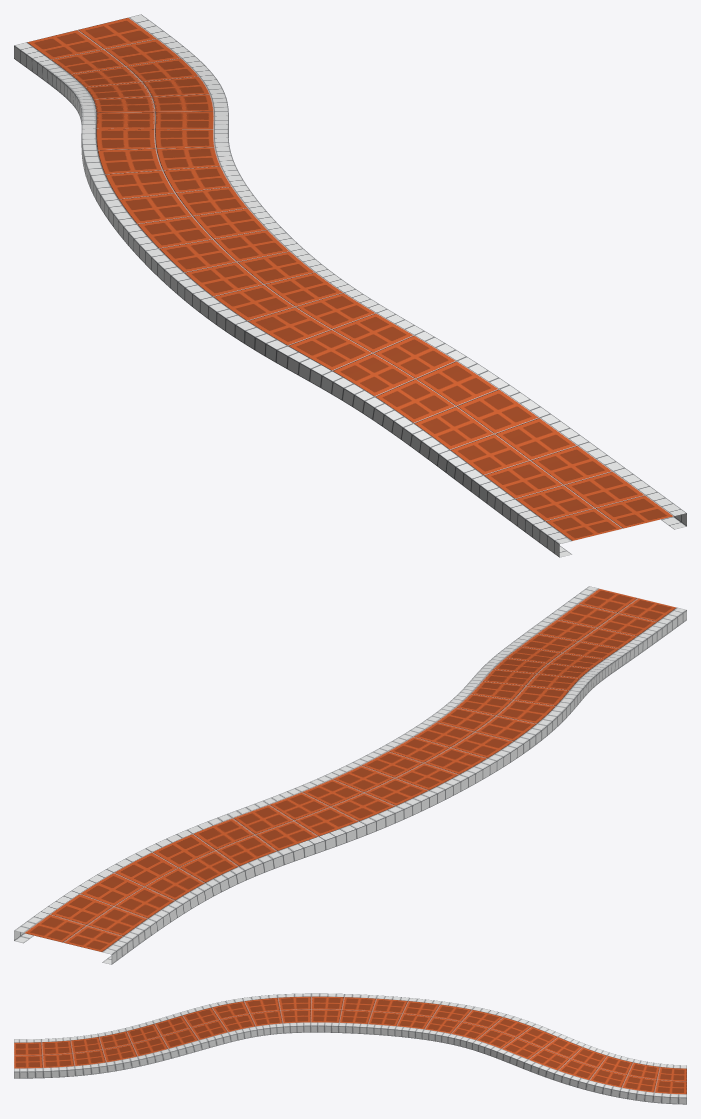
Rendered from PathfindingIngenuityCurve1.obj.
3 views of the same model, one above another, from view 1: azimuth 30°, elevation 25°; view 2: azimuth 150°, elevation 25°; view 3: azimuth 270°, elevation 25° (orthographic). The views are drawn at different scales.
Parts seen in each view (by area): view 1: Cube.001_Cube.002; view 2: Cube.001_Cube.002; view 3: Cube.001_Cube.002.
Part boxes in pixels (box(x1,y1,x2,y2)): Cube.001_Cube.002: box(14, 14, 686, 557); Cube.001_Cube.002: box(14, 586, 686, 964); Cube.001_Cube.002: box(14, 993, 686, 1104).
Bounding box in the file's own units: 11.87 × 2.5 × 44.
